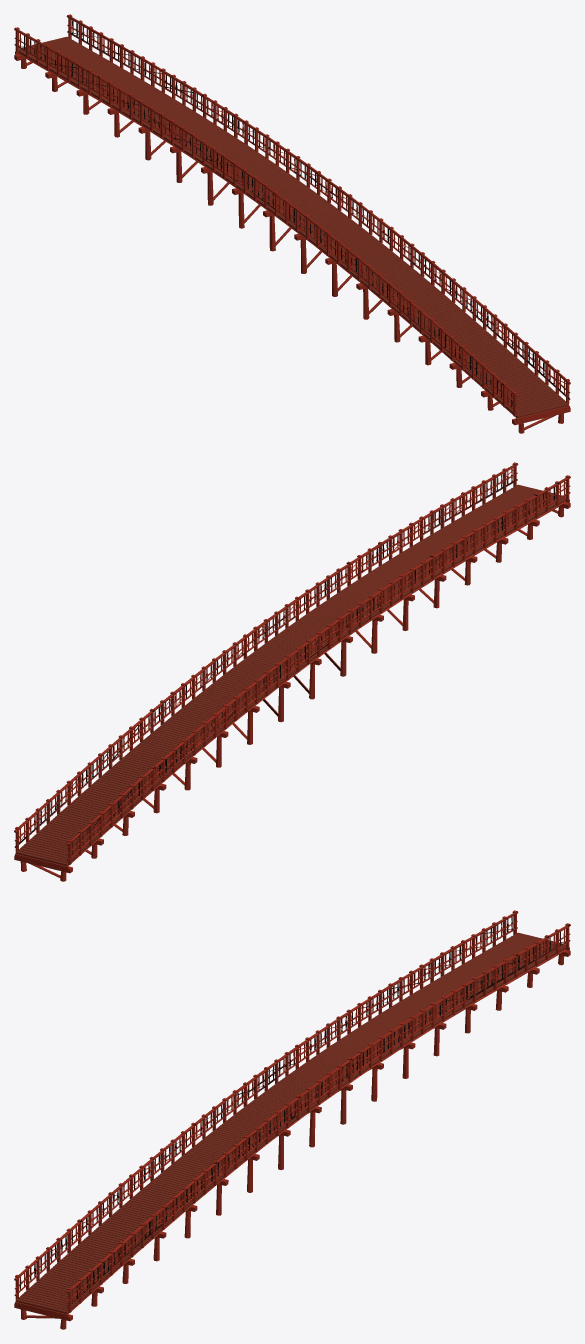
File: cau_the_huc_lod1.glb
The picture shows the model from 3 angles, top to bottom: view 1: azimuth 30°, elevation 25°; view 2: azimuth 150°, elevation 25°; view 3: azimuth 330°, elevation 25°; orthographic projection.
Parts seen in each view (by area): view 1: cau_the_huc_lod1; view 2: cau_the_huc_lod1; view 3: cau_the_huc_lod1.
Part boxes in pixels (x1=…): cau_the_huc_lod1: x1=14, y1=14, x2=570, y2=433; cau_the_huc_lod1: x1=14, y1=462, x2=570, y2=881; cau_the_huc_lod1: x1=14, y1=910, x2=570, y2=1329.
Bounding box in the file's own units: 2.96 × 3.4 × 46.02.
Materials: 2 (2 with a texture image).
